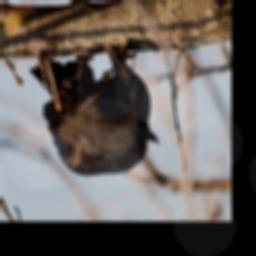Crow: (27, 43, 163, 178)
